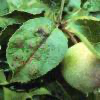Apple Scab Leaf: (8, 14, 71, 85)
